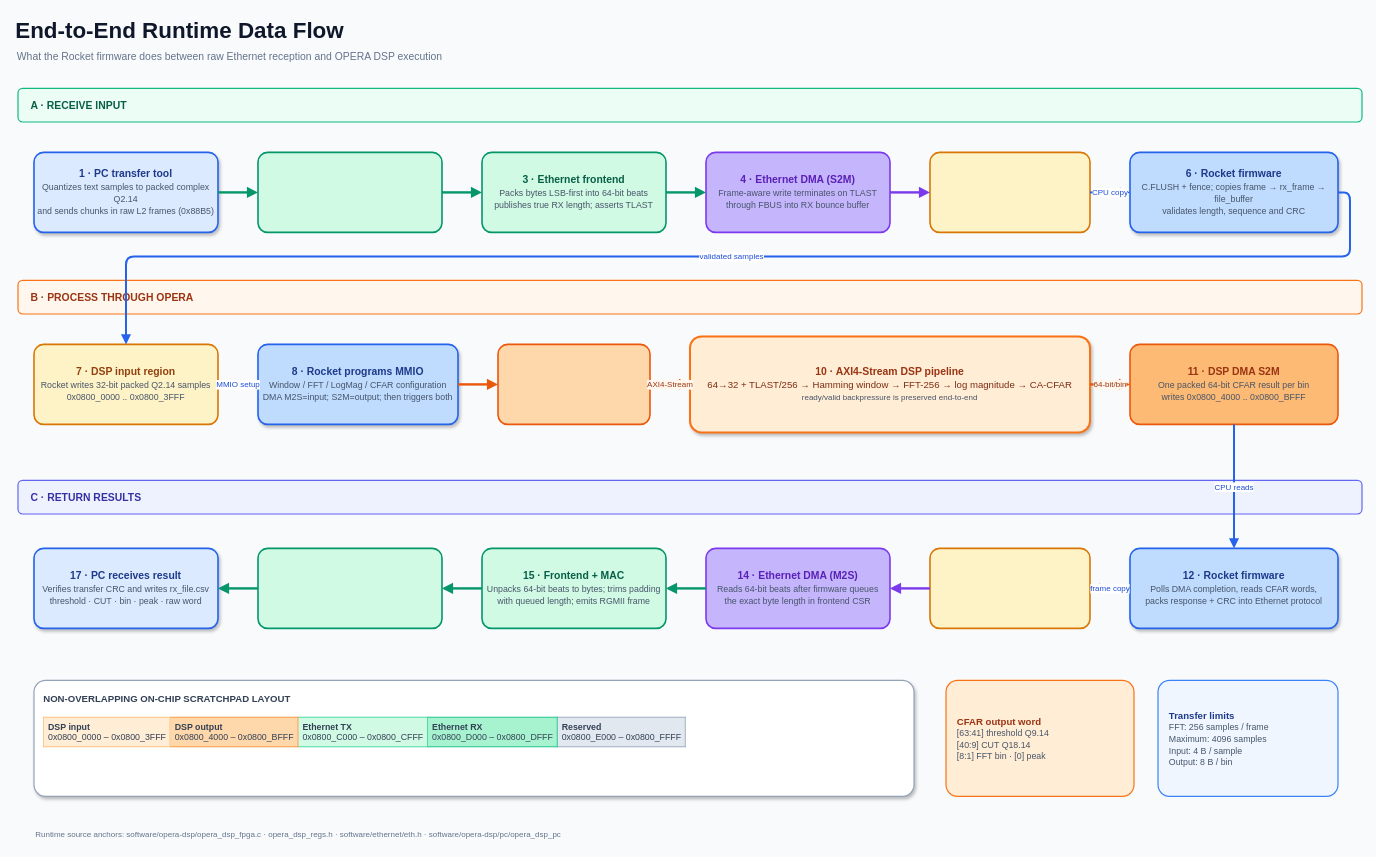
The diagram is 1376 pixels wide and 857 high, and some of its shapes have lost their labels. Here are the shapes that lost their labels. From the top down, the centre of each, then its label:
At point 349,192: "2 · PHY + RGMII MAC RTL8211E → 4-bit DDR RGMII Forencich MAC emits byte stream".
At point 1009,192: "5 · RX bounce 0x0800_D000 · 4 KiB on-chip scratchpad".
At point 573,384: "9 · DSP DMA M2S Reads 64-bit beats two 32-bit samples per beat".
At point 349,588: "16 · RTL8211E PHY RGMII to copper Ethernet link configured over MDIO".
At point 1009,588: "13 · TX bounce 0x0800_C000 · 4 KiB cache cleaned before DMA".
